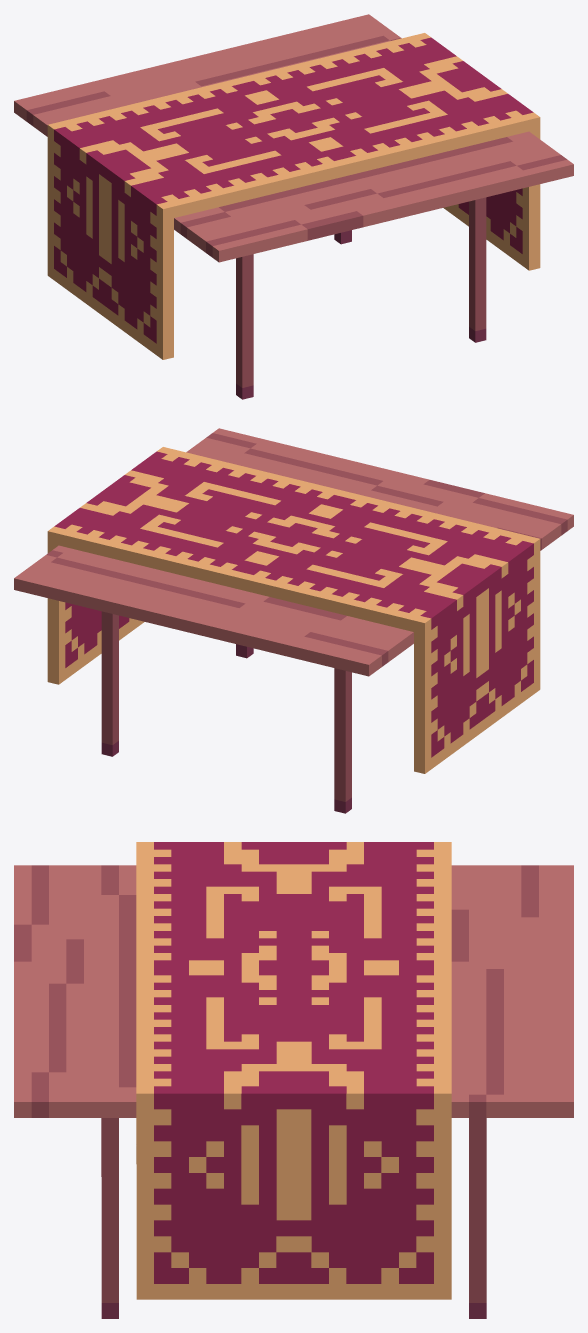
File: table_fancy_2x2.obj
3 views of the same model, one above another, from view 1: azimuth 30°, elevation 25°; view 2: azimuth 150°, elevation 25°; view 3: azimuth 270°, elevation 25° (orthographic). The views are drawn at different scales.
Visible parts, largest first — view 1: table_fancy_2x2; view 2: table_fancy_2x2; view 3: table_fancy_2x2.
Part boxes in pixels (<box>): table_fancy_2x2: <box>14,14,573,399</box>; table_fancy_2x2: <box>14,428,573,813</box>; table_fancy_2x2: <box>14,842,573,1318</box>.
Size of the model in its own units: 9.26 by 4.63 by 8.72.
